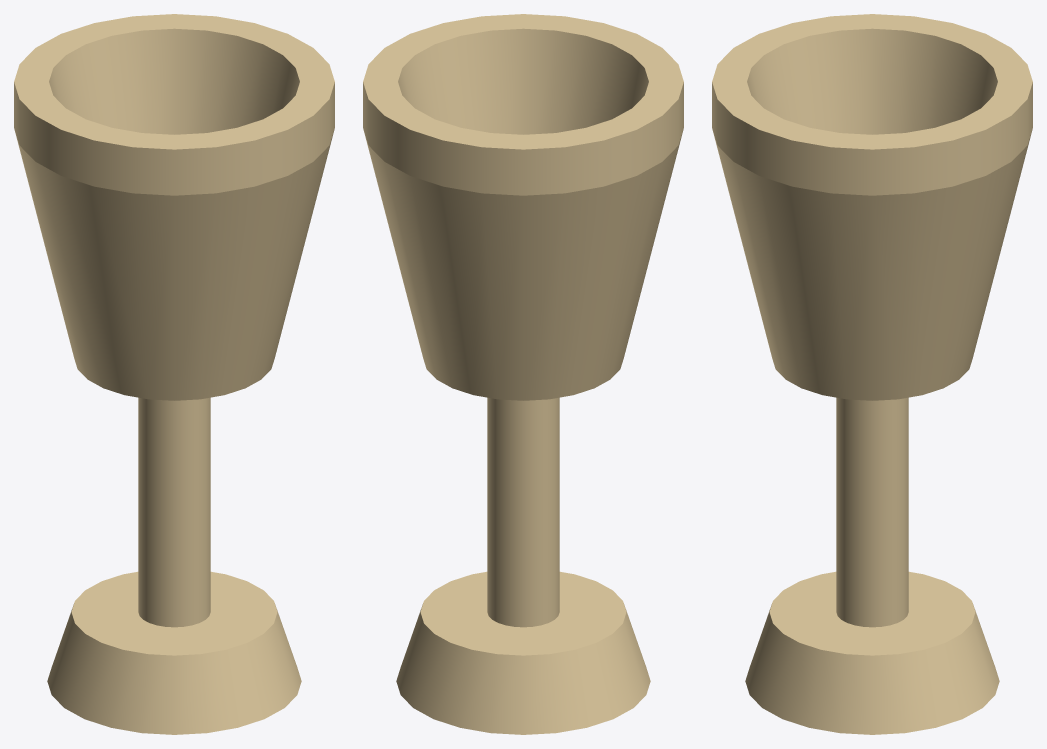
File: detailChalice.glb
The picture shows the model from 3 angles, left to right: view 1: azimuth 30°, elevation 25°; view 2: azimuth 150°, elevation 25°; view 3: azimuth 270°, elevation 25°; orthographic projection.
Visible parts, largest first — view 1: detailChalice(Clone); view 2: detailChalice(Clone); view 3: detailChalice(Clone).
Boxes of the visible parts, box(x1,y1,x2,y2) form: detailChalice(Clone): box(14, 14, 334, 734); detailChalice(Clone): box(363, 14, 683, 734); detailChalice(Clone): box(712, 14, 1032, 734).
Size of the model in its own units: 0.0706 by 0.1456 by 0.0706.
